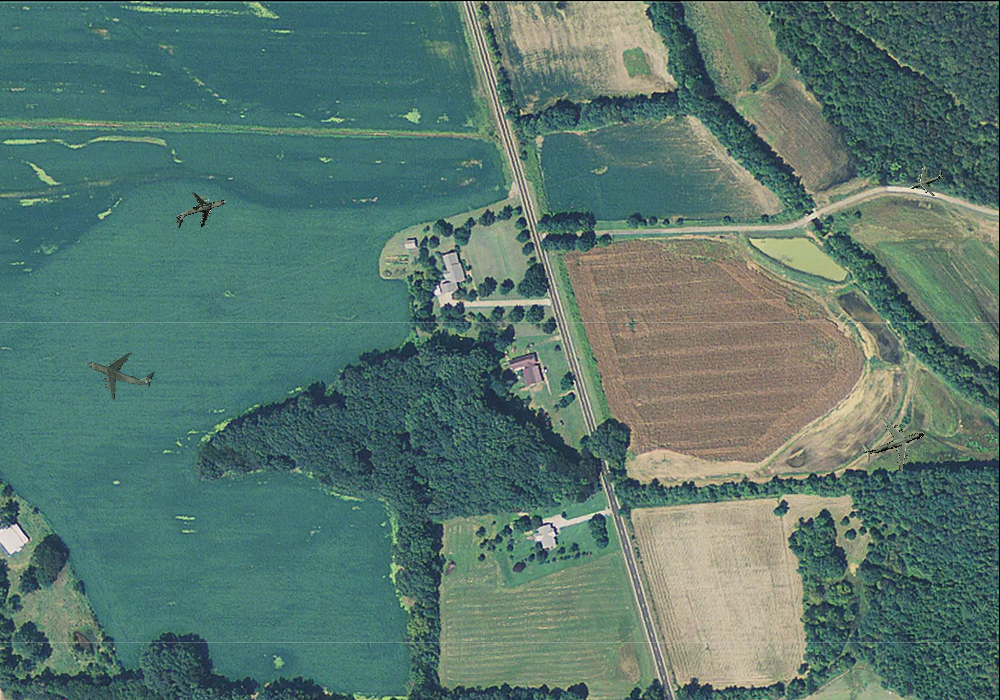plane: (77, 332, 162, 413), (854, 404, 934, 482), (168, 182, 232, 240), (904, 159, 949, 203)
